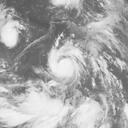cyclone: (48, 42, 86, 85)
